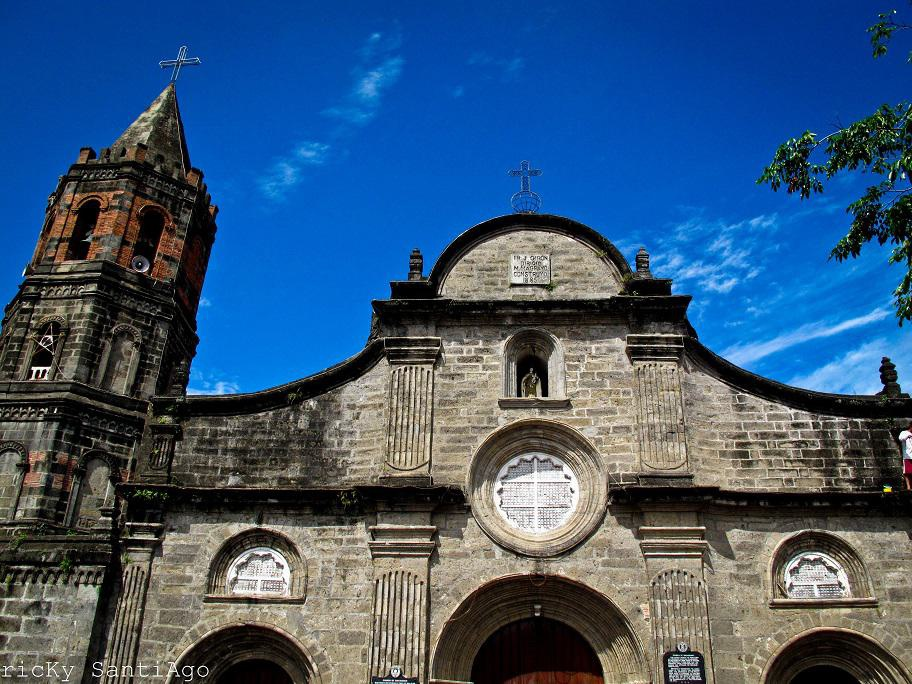barasoain_church_malolos_bulacan: (4, 37, 912, 684)
